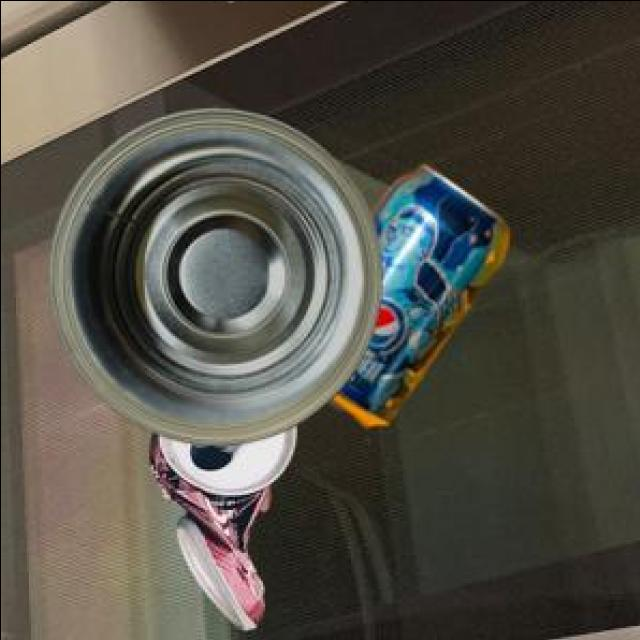logam: (53, 113, 383, 448), (332, 169, 510, 428), (151, 428, 296, 632)
